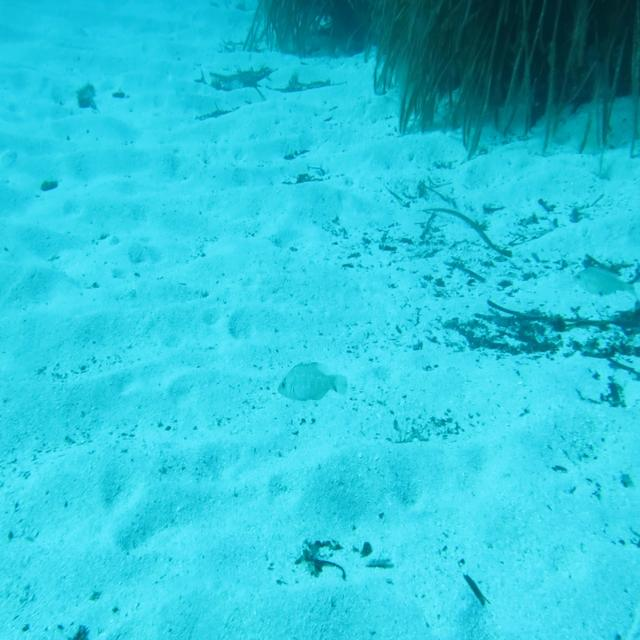BN: (276, 358, 351, 406)
female: (571, 262, 636, 298)
